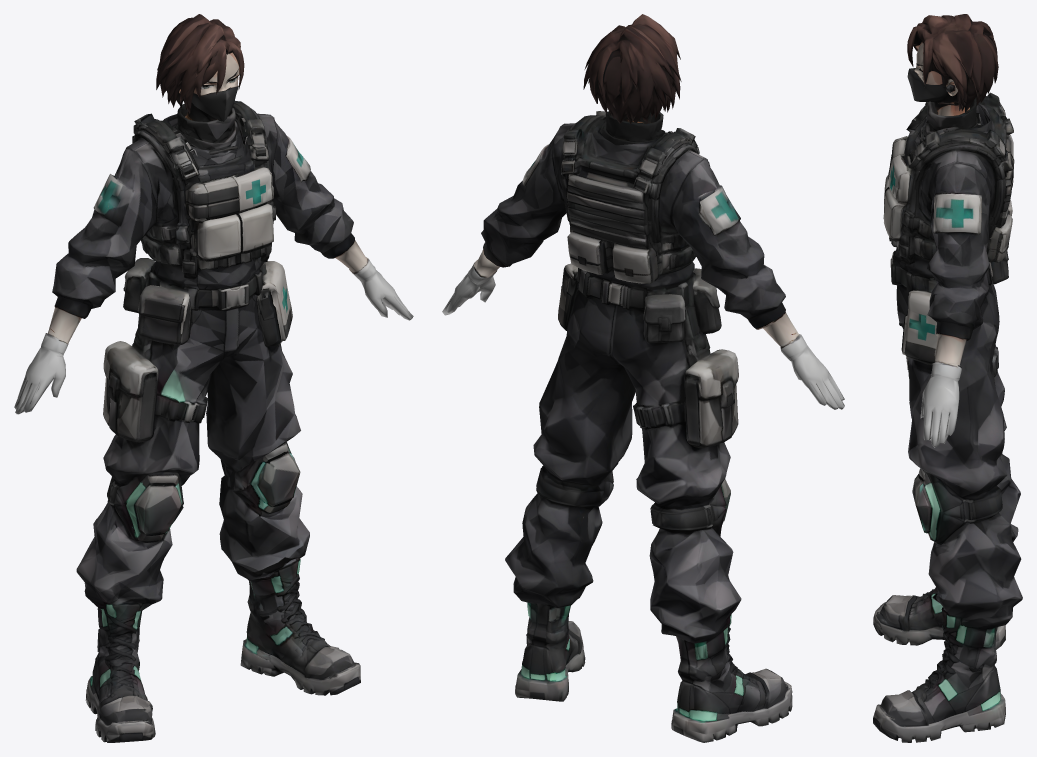
Rendered from tripo_convert_0ec3f8e3-22c1-4c3c-8ab9-40a4a211496d.fbx.
3 views of the same model, side by side, from view 1: azimuth 30°, elevation 25°; view 2: azimuth 150°, elevation 25°; view 3: azimuth 270°, elevation 25° (orthographic).
Visible parts, largest first — view 1: tripo_part_0_002, tripo_part_1_002, tripo_part_2_001, serum_Head, tripo_part_4_002; view 2: tripo_part_0_002, tripo_part_1_002, tripo_part_2_001, serum_Head, tripo_part_4_002; view 3: tripo_part_0_002, tripo_part_4_002, tripo_part_1_002, serum_Head.
Part boxes in pixels (bbox=[...]): tripo_part_0_002: bbox=[76, 258, 360, 742]; tripo_part_1_002: bbox=[132, 100, 292, 350]; tripo_part_2_001: bbox=[14, 138, 178, 414]; serum_Head: bbox=[156, 14, 247, 156]; tripo_part_4_002: bbox=[257, 113, 413, 320]; tripo_part_0_002: bbox=[505, 290, 792, 742]; tripo_part_1_002: bbox=[558, 111, 721, 334]; tripo_part_2_001: bbox=[659, 149, 844, 409]; serum_Head: bbox=[583, 14, 681, 145]; tripo_part_4_002: bbox=[442, 123, 574, 315]; tripo_part_0_002: bbox=[873, 251, 1022, 742]; tripo_part_4_002: bbox=[918, 150, 997, 447]; tripo_part_1_002: bbox=[883, 92, 1014, 365]; serum_Head: bbox=[907, 14, 998, 141].
Bounding box in the file's own units: 61.67 × 20.31 × 100.
5 materials, 5 textured.
